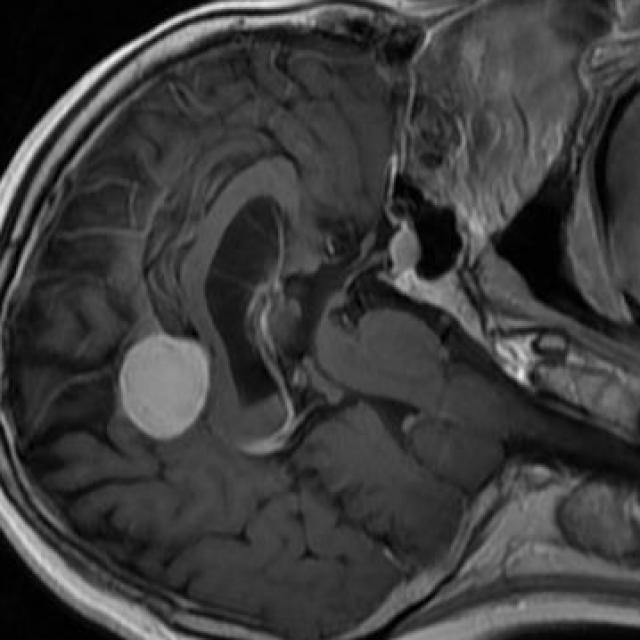meningioma: (118, 333, 210, 442)
